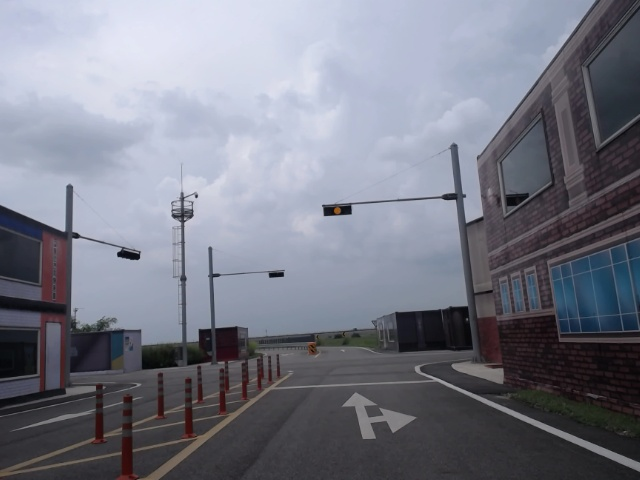orange_3: (323, 206, 352, 216)
